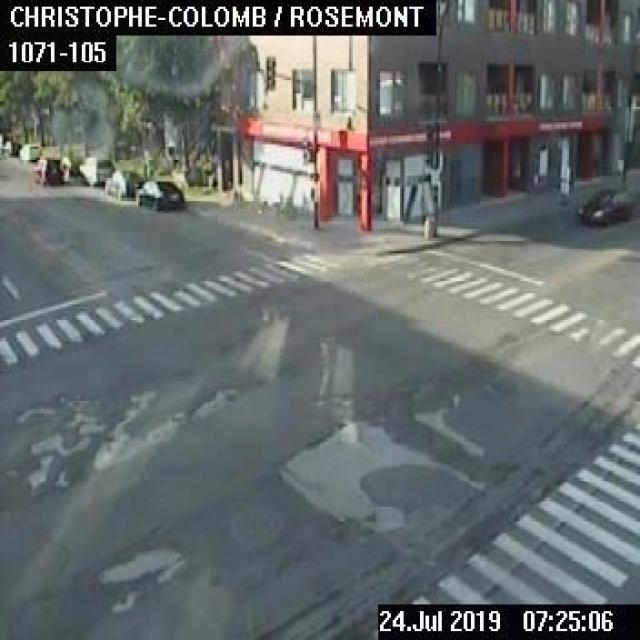vehicle: (576, 188, 630, 224), (136, 177, 182, 209), (103, 168, 142, 197), (78, 155, 113, 183), (32, 156, 63, 182), (18, 142, 40, 158), (3, 140, 19, 154)
